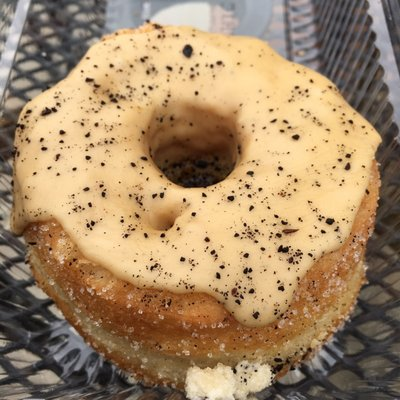burger: (0, 141, 131, 400), (0, 218, 135, 400)
pizza: (284, 0, 333, 63)
